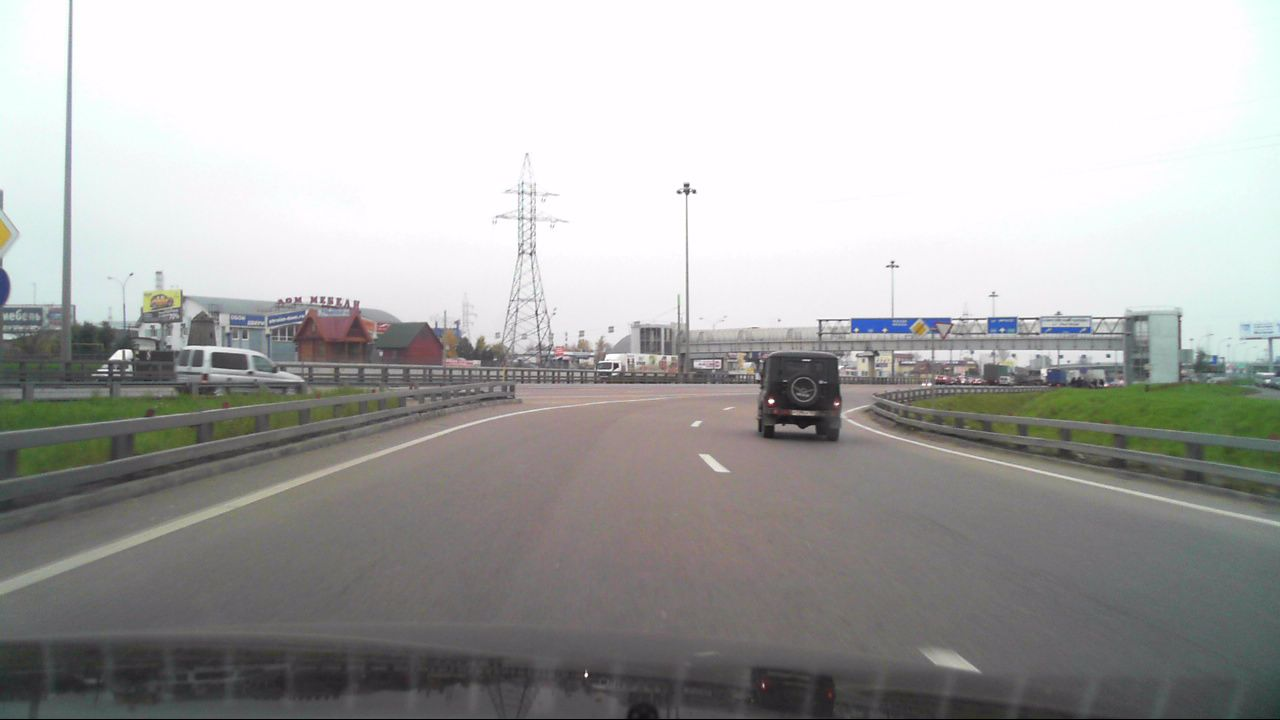main road: (909, 319, 928, 340)
